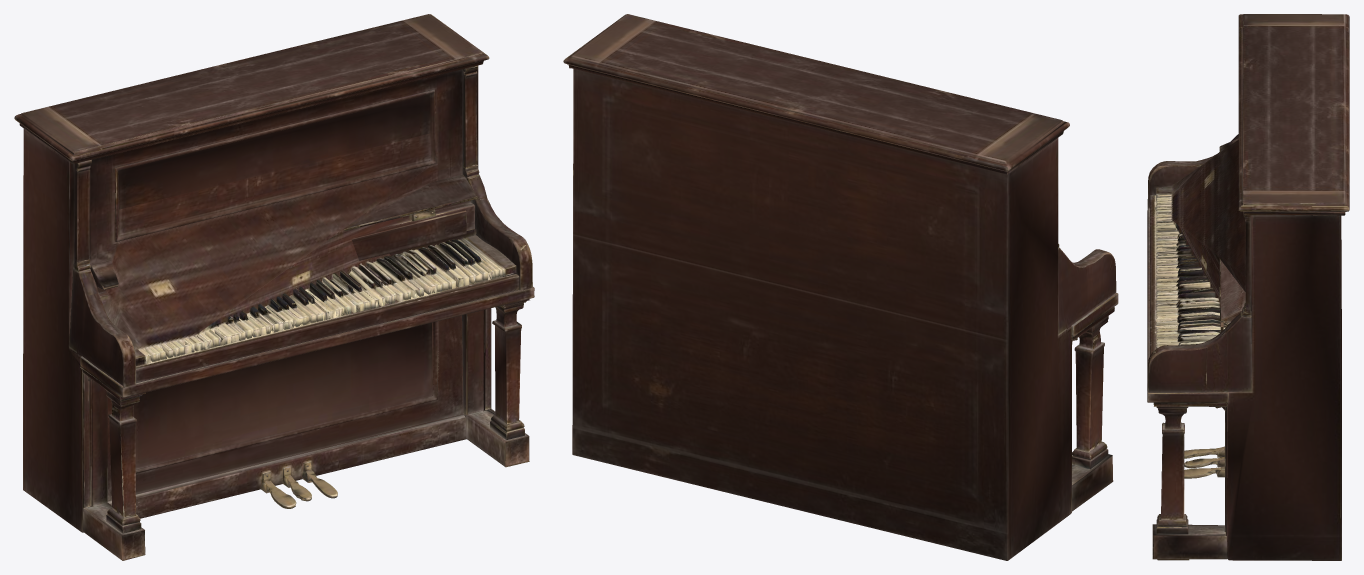
Rendered from skyways-d-mu-piano.glb.
The picture shows the model from 3 angles, left to right: view 1: azimuth 30°, elevation 25°; view 2: azimuth 150°, elevation 25°; view 3: azimuth 270°, elevation 25°; orthographic projection. The views are drawn at different scales.
Parts seen in each view (by area): view 1: skyways-d-mu-piano; view 2: skyways-d-mu-piano; view 3: skyways-d-mu-piano.
Part boxes in pixels (box(x1,y1,x2,y2)): skyways-d-mu-piano: box(14, 14, 534, 560); skyways-d-mu-piano: box(563, 14, 1118, 560); skyways-d-mu-piano: box(1147, 14, 1349, 560).
Size of the model in its own units: 1.5 by 1.29 by 0.6608.
1 material, 1 textured.
